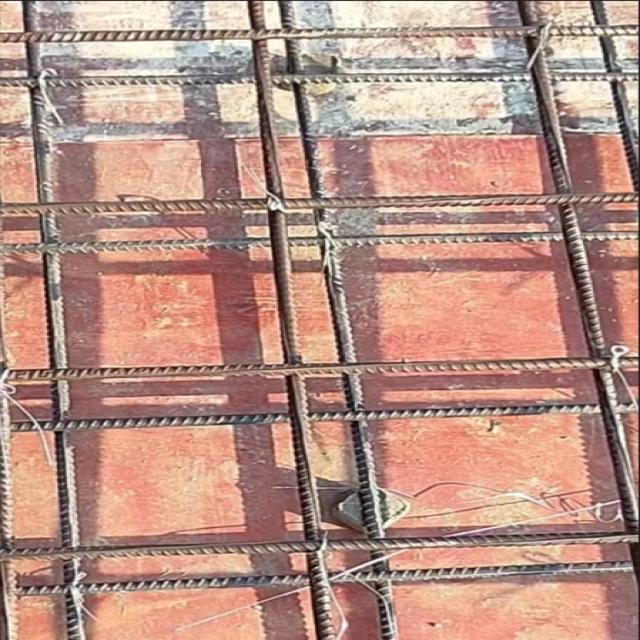ribbed bar: (273, 0, 402, 638), (509, 2, 637, 528), (239, 0, 336, 638), (20, 0, 87, 638), (16, 557, 637, 594), (0, 527, 637, 562), (0, 399, 637, 433), (0, 354, 637, 382), (0, 229, 637, 255), (0, 191, 637, 213), (0, 25, 637, 45), (0, 70, 637, 88), (586, 0, 637, 195)
